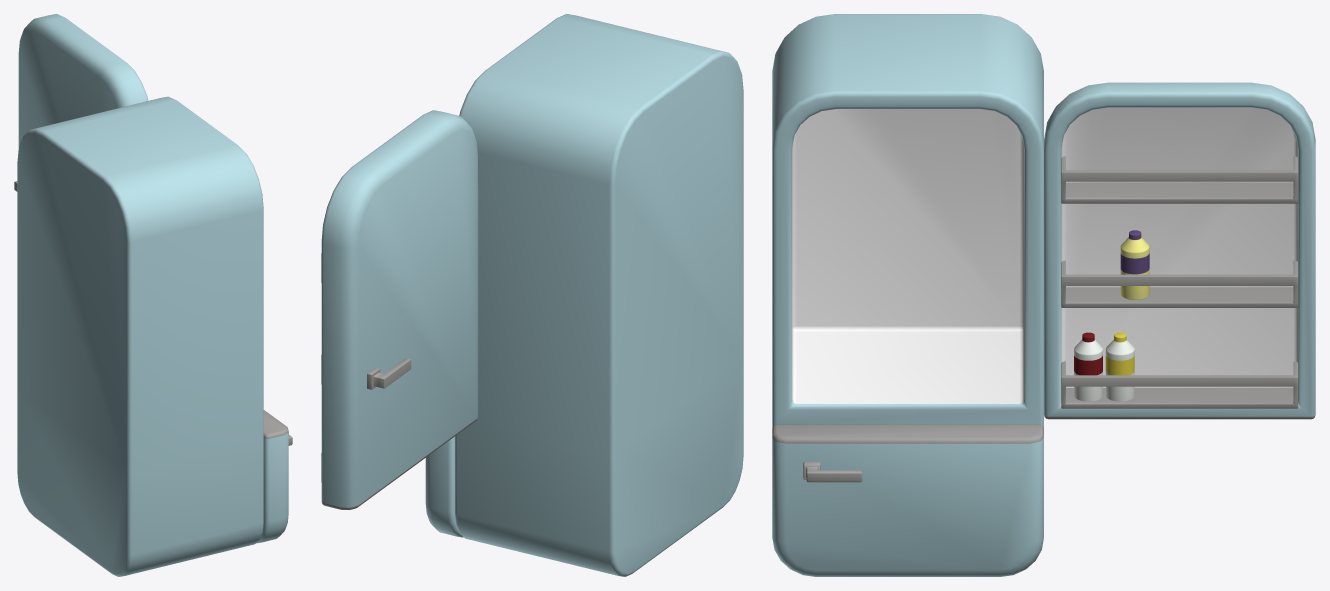
The model's file is lodowkacialo.fbx.
3 views of the same model, side by side, from view 1: azimuth 30°, elevation 25°; view 2: azimuth 150°, elevation 25°; view 3: azimuth 270°, elevation 25° (orthographic). The views are drawn at different scales.
Parts seen in each view (by area): view 1: Cube.025, Cube.029, Cube.024; view 2: Cube.025, Cube.029, Cube.024, Cube.045; view 3: Cube.025, Cube.029, Cube.024, Cube.038, Cube.030, Cube.039, Cylinder.014, Cylinder.015, Cylinder.013, Cube.044.
Boxes of the visible parts, x1=… form: Cube.025: x1=17, y1=96, x2=263, y2=576; Cube.029: x1=18, y1=14, x2=148, y2=147; Cube.024: x1=256, y1=410, x2=288, y2=543; Cube.025: x1=455, y1=14, x2=743, y2=576; Cube.029: x1=321, y1=110, x2=478, y2=509; Cube.024: x1=425, y1=436, x2=463, y2=537; Cube.045: x1=367, y1=358, x2=411, y2=389; Cube.025: x1=772, y1=14, x2=1043, y2=428; Cube.029: x1=1044, y1=82, x2=1315, y2=419; Cube.024: x1=772, y1=424, x2=1043, y2=576; Cube.038: x1=1061, y1=156, x2=1298, y2=203; Cube.030: x1=1061, y1=260, x2=1298, y2=307; Cube.039: x1=1061, y1=361, x2=1298, y2=408; Cylinder.014: x1=1105, y1=332, x2=1134, y2=401; Cylinder.015: x1=1120, y1=230, x2=1149, y2=299; Cylinder.013: x1=1074, y1=332, x2=1102, y2=401; Cube.044: x1=803, y1=462, x2=862, y2=482.
Size of the model in its own units: 695 by 1460 by 1520.
